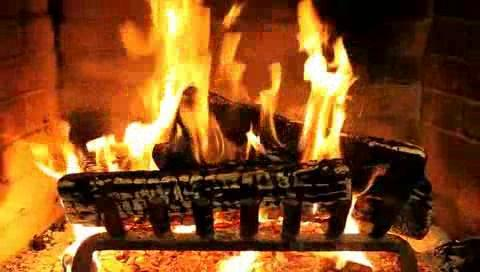fire: (121, 4, 348, 177)
